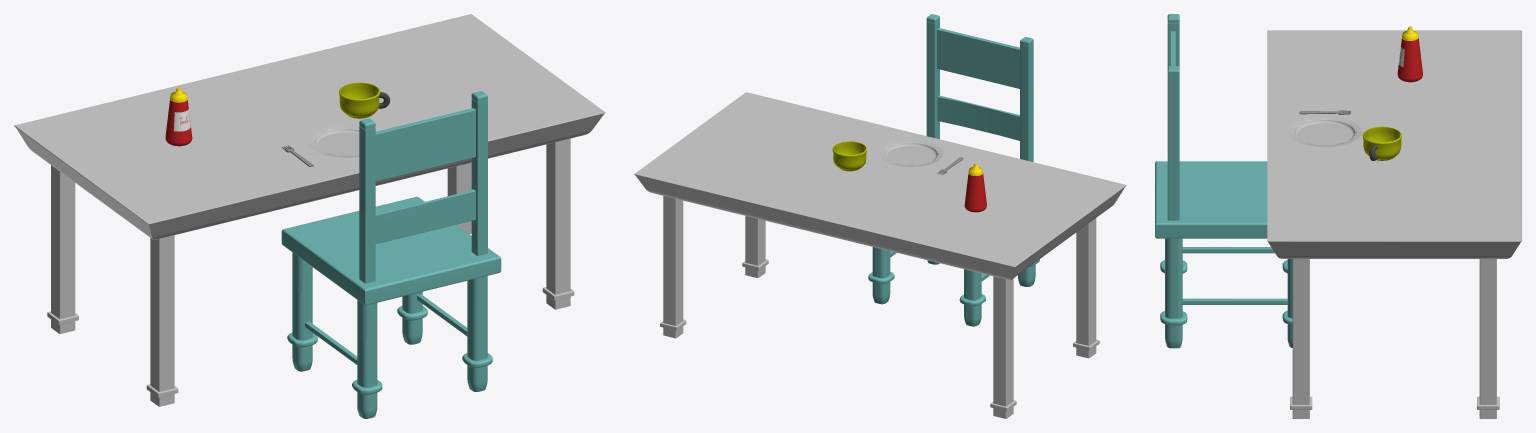
3 renders of one model, left to right at view 1: azimuth 30°, elevation 25°; view 2: azimuth 150°, elevation 25°; view 3: azimuth 270°, elevation 25°, orthographic. The views are drawn at different scales.
Visible parts, largest first — view 1: Table1:pCube7, chair1:pCube15, plate1:pDisc1, Cup_3:pCylinder1, sauce_bottle2:pCylinder1; view 2: Table1:pCube7, chair1:pCube15, plate1:pDisc1, Cup_3:pCylinder1, sauce_bottle2:pCylinder1; view 3: Table1:pCube7, chair1:pCube15, plate1:pDisc1, sauce_bottle2:pCylinder1, Cup_3:pCylinder1.
Boxes of the visible parts, <box> form: Table1:pCube7: <box>14,14,605,406</box>; chair1:pCube15: <box>281,91,501,418</box>; plate1:pDisc1: <box>307,125,376,158</box>; Cup_3:pCylinder1: <box>339,82,380,118</box>; sauce_bottle2:pCylinder1: <box>165,87,192,146</box>; Table1:pCube7: <box>634,92,1126,418</box>; chair1:pCube15: <box>868,14,1039,326</box>; plate1:pDisc1: <box>878,139,943,167</box>; Cup_3:pCylinder1: <box>832,141,866,171</box>; sauce_bottle2:pCylinder1: <box>964,163,986,212</box>; Table1:pCube7: <box>1267,30,1521,418</box>; chair1:pCube15: <box>1155,14,1292,348</box>; plate1:pDisc1: <box>1287,116,1361,147</box>; sauce_bottle2:pCylinder1: <box>1397,26,1422,82</box>; Cup_3:pCylinder1: <box>1362,126,1401,160</box>.
Bounding box in the file's own units: 16.41 × 10.14 × 12.04.
